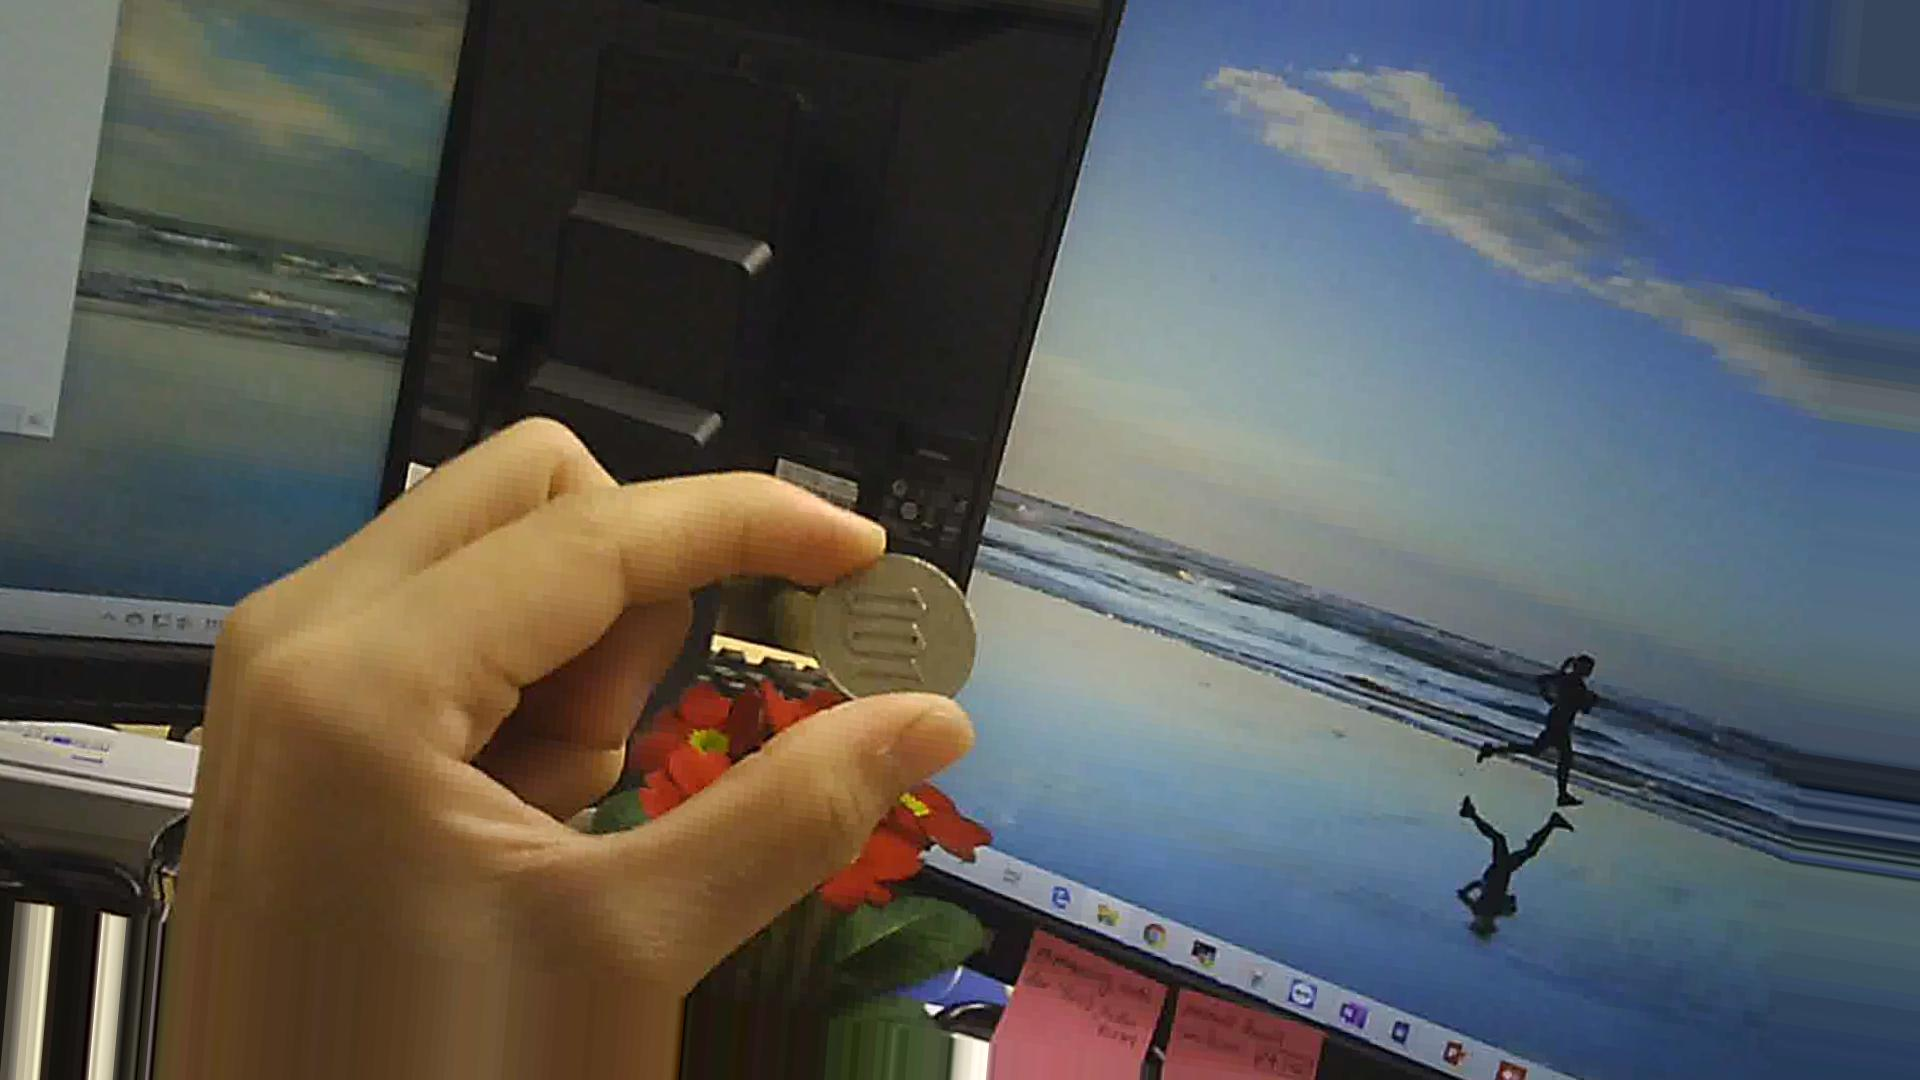100 Yen: (811, 543, 993, 731)
